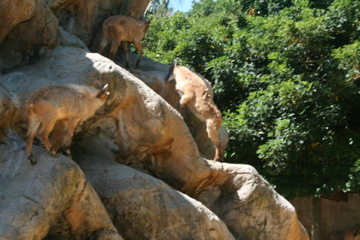goat: (25, 79, 109, 164), (165, 58, 229, 162), (96, 13, 154, 68)
